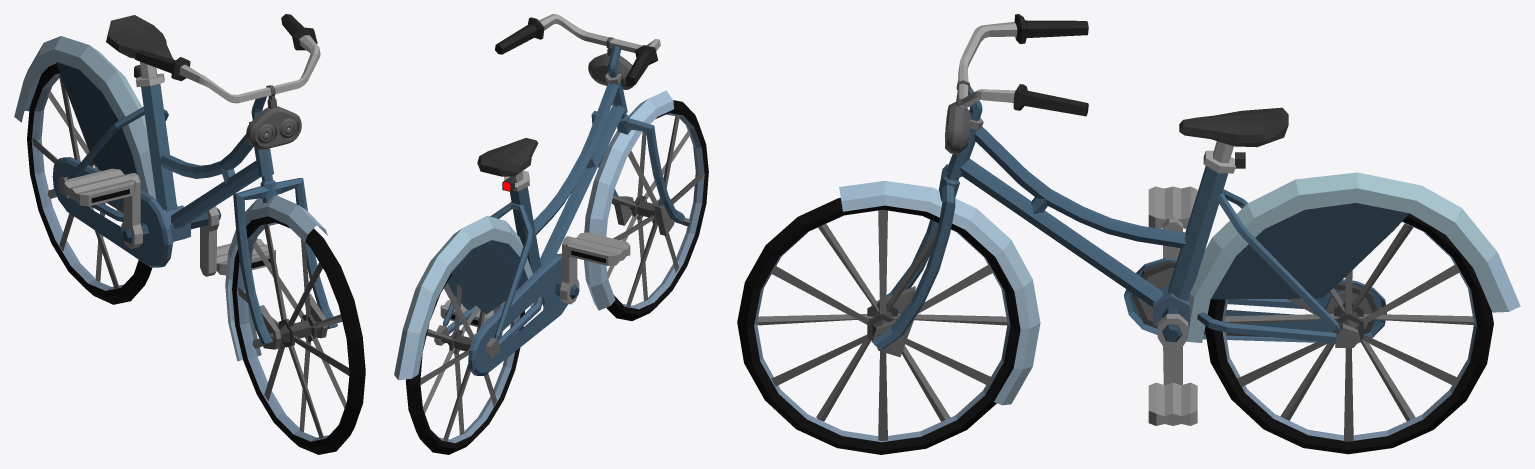
File: dutch_cycle.glb
The picture shows the model from 3 angles, left to right: view 1: azimuth 30°, elevation 25°; view 2: azimuth 150°, elevation 25°; view 3: azimuth 270°, elevation 25°; orthographic projection. The views are drawn at different scales.
Visible parts, largest first — view 1: SM_Veh_Bike_02_Combined, SM_Veh_Bike_02_Combined.005, Horn; view 2: SM_Veh_Bike_02_Combined, SM_Veh_Bike_02_Combined.005, Horn; view 3: SM_Veh_Bike_02_Combined, SM_Veh_Bike_02_Combined.005, Horn.
Part boxes in pixels (box(x1,y1,x2,y2)): SM_Veh_Bike_02_Combined: box(14, 14, 365, 454); SM_Veh_Bike_02_Combined.005: box(52, 157, 172, 267); Horn: box(246, 85, 301, 149); SM_Veh_Bike_02_Combined: box(394, 14, 708, 454); SM_Veh_Bike_02_Combined.005: box(468, 253, 568, 375); Horn: box(588, 37, 633, 89); SM_Veh_Bike_02_Combined: box(737, 14, 1520, 454); SM_Veh_Bike_02_Combined.005: box(1124, 257, 1386, 343); Horn: box(945, 80, 970, 154).
Size of the model in its own units: 0.6881 by 1.2 by 2.09.
Materials: 3 (1 with a texture image).
